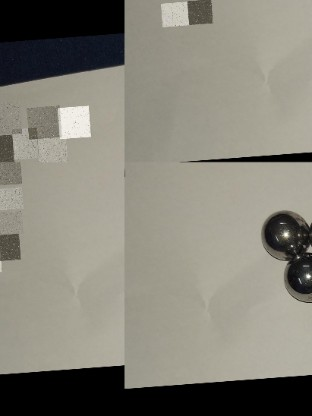ironball: (259, 209, 309, 259), (282, 245, 309, 310)
